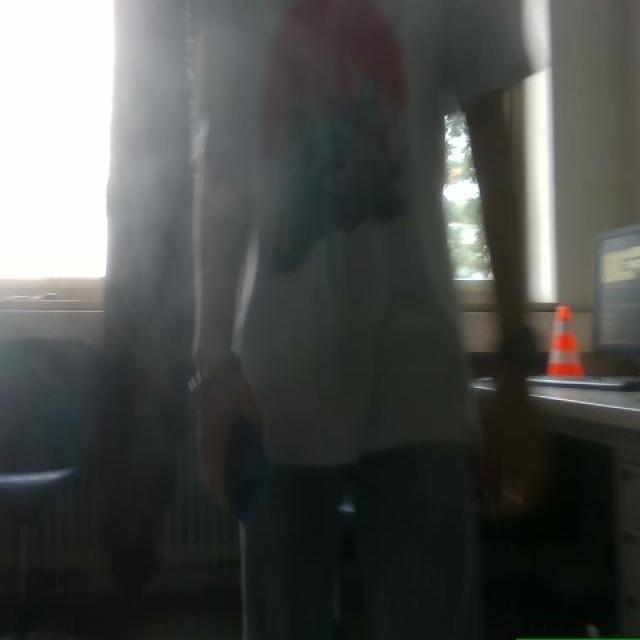humans: (191, 0, 545, 639)
